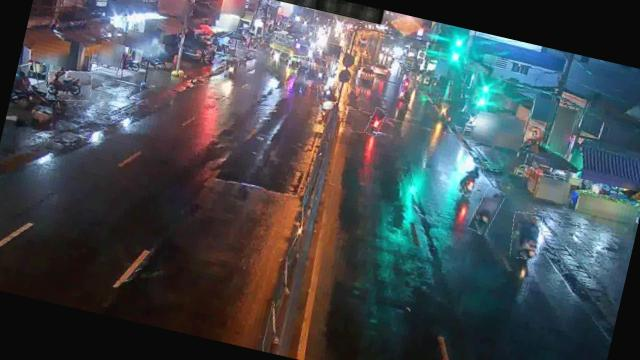Bike: (506, 210, 547, 262), (44, 66, 95, 107), (470, 186, 504, 238), (456, 161, 484, 198), (366, 107, 386, 137), (316, 82, 341, 105), (433, 98, 452, 127), (221, 57, 239, 85), (398, 84, 407, 98)
